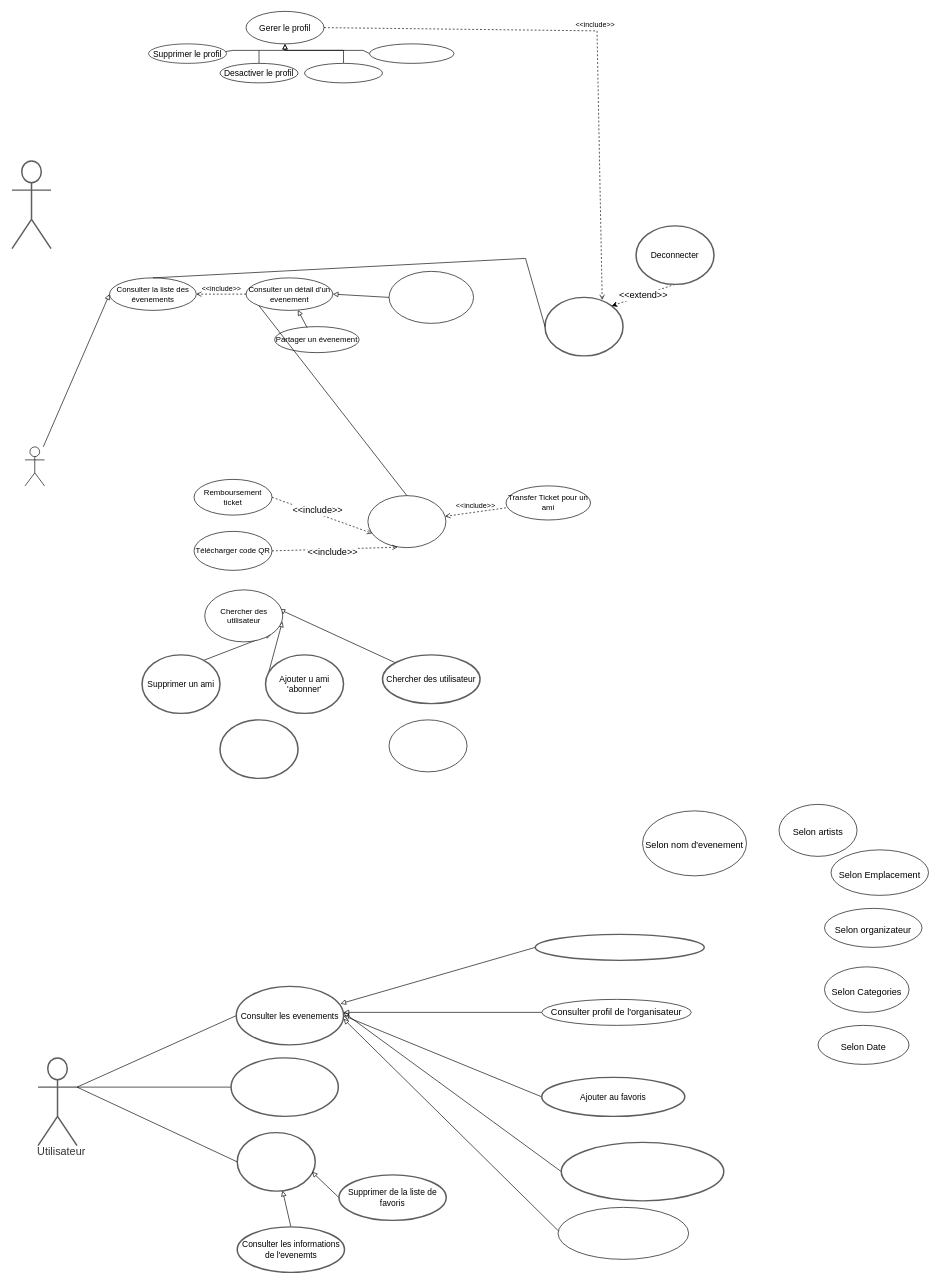
Image size: 940x1284. Some labels were removed from this diagram. The shapes that lost their labels are listed below. From the top down, each one's centre as x and y in pixels, then its label:
[343,73]: Modifier le profil
[411,53]: Consulter mes achats
[31,204]: Client
[431,297]: discuter avec l'oganizateur pour feedback / réclamation
[583,326]: S'authentifier
[34,466]: Actor
[406,521]: Reserver un evenement
[258,749]: Consulter liste ludification
[619,947]: Rechercher un evenement
[284,1087]: Creer un compte
[276,1162]: Gérer Listes de Favoris
[642,1171]: Filterr les evenements selon Prix d'evenement /date d'evenement
[623,1233]: Partager un evenement
